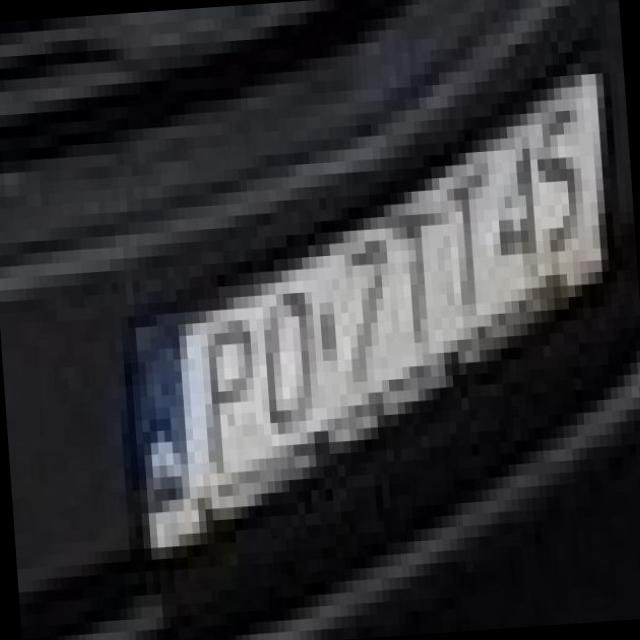0: (238, 268, 320, 425)
4: (471, 125, 536, 256)
7: (313, 216, 395, 384), (513, 121, 585, 242)
P: (177, 296, 266, 464)
T: (368, 177, 448, 334), (422, 140, 489, 306)
